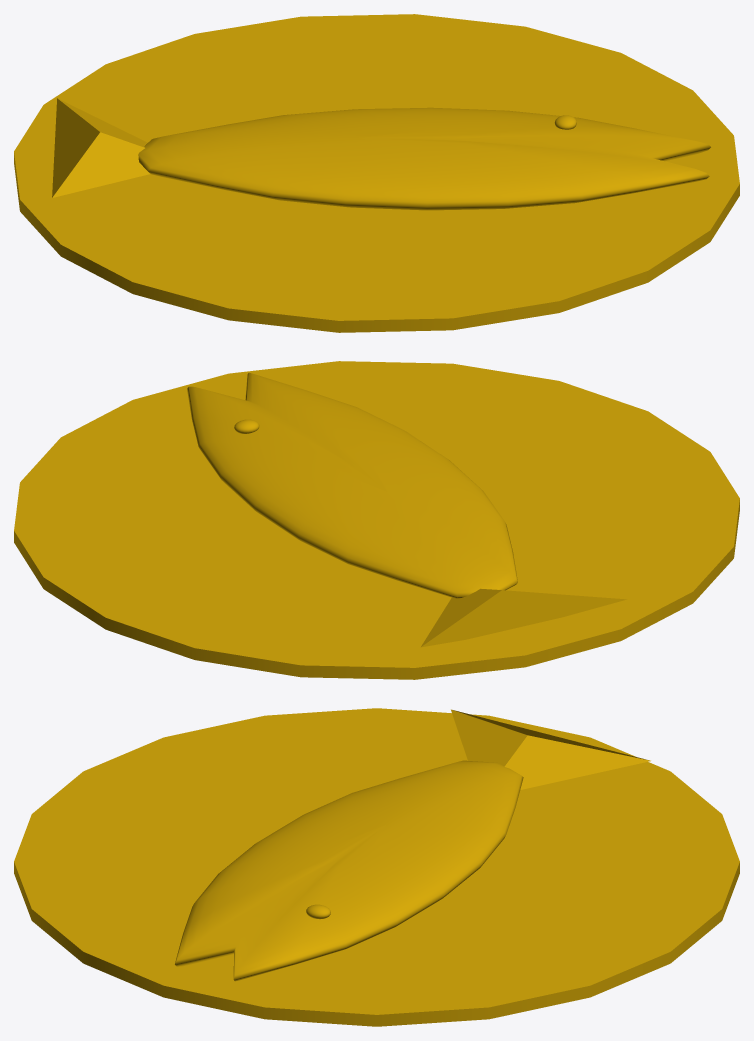
The model's file is fishCoin.fbx.
3 renders of one model, top to bottom at view 1: azimuth 30°, elevation 25°; view 2: azimuth 150°, elevation 25°; view 3: azimuth 270°, elevation 25°, orthographic.
Parts seen in each view (by area): view 1: pCylinder1, pSphere3; view 2: pCylinder1, pSphere3; view 3: pCylinder1, pSphere3.
Boxes of the visible parts, <box> form: pCylinder1: <box>14,14,739,332</box>; pSphere3: <box>52,98,710,210</box>; pCylinder1: <box>14,361,739,679</box>; pSphere3: <box>187,372,626,647</box>; pCylinder1: <box>14,708,739,1026</box>; pSphere3: <box>175,709,650,981</box>.
Bounding box in the file's own units: 1.45 × 0.0979 × 1.45.
